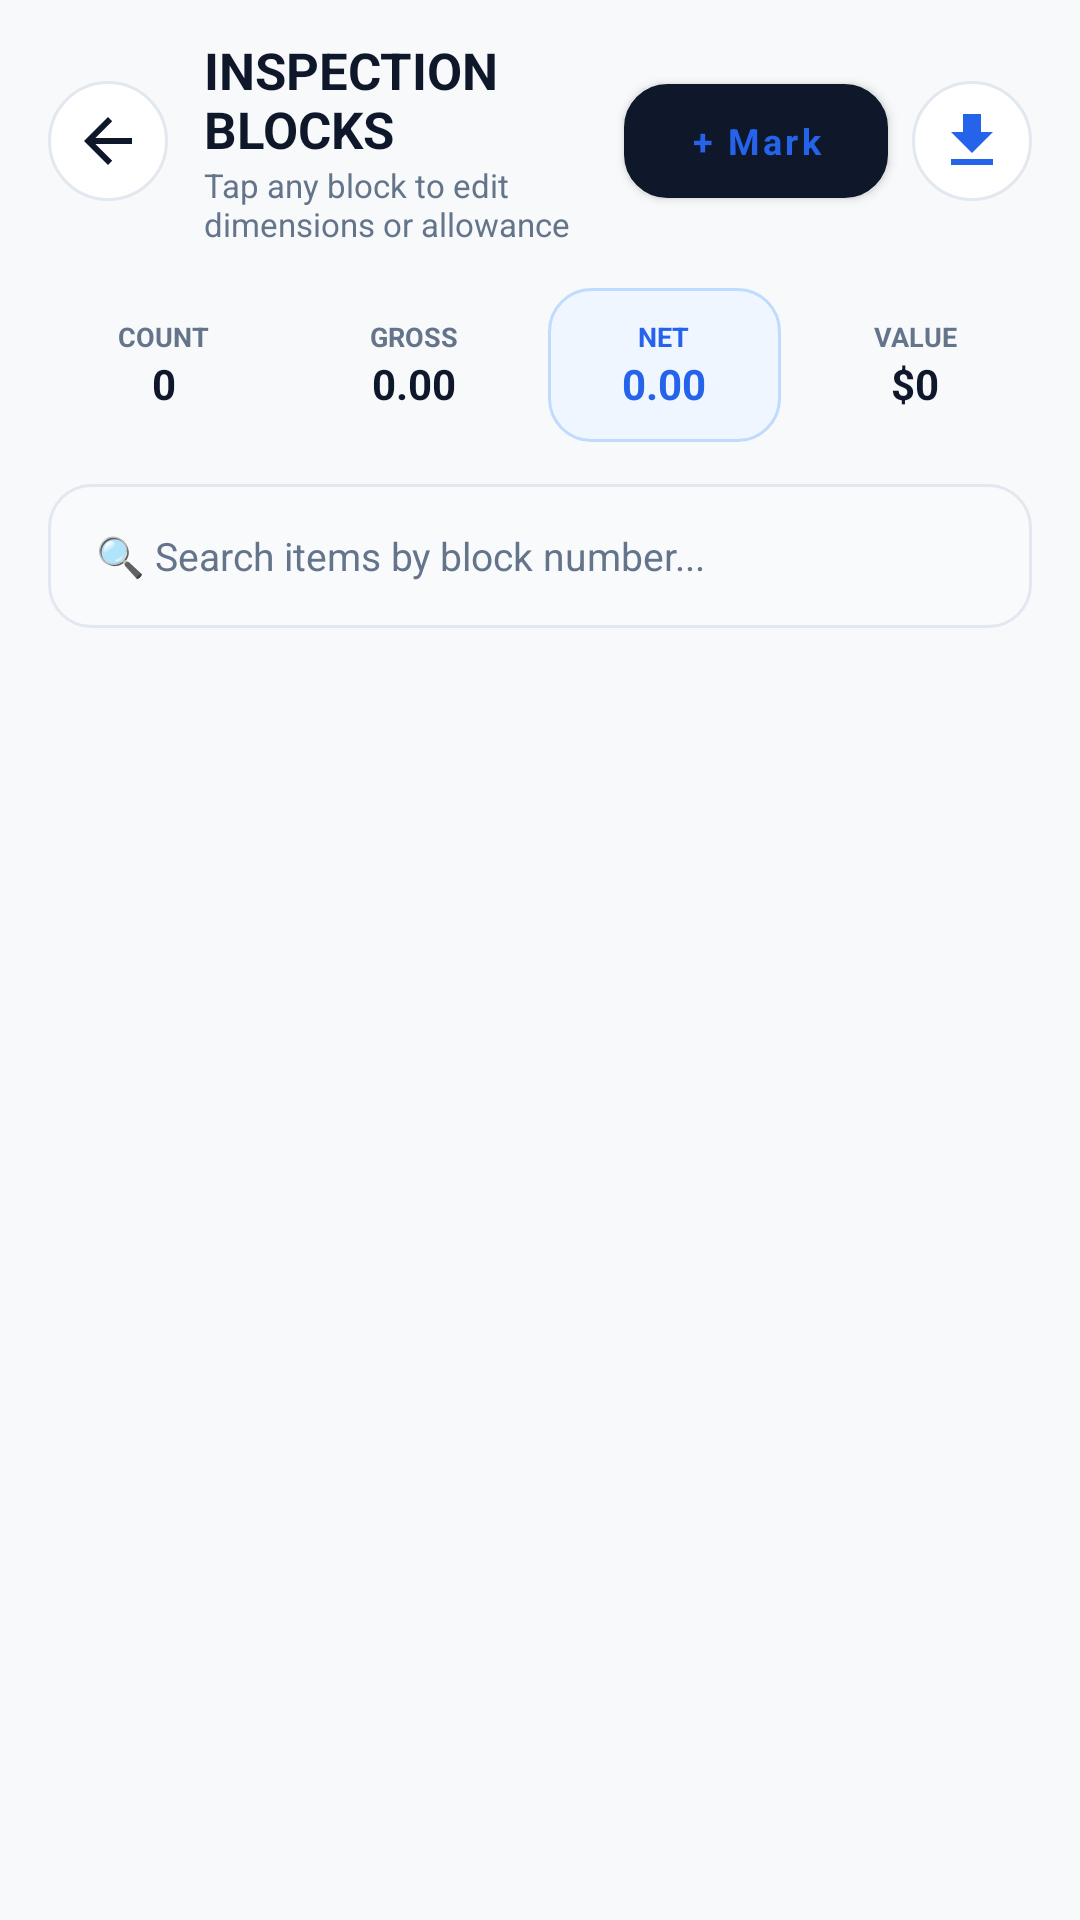

Screen size 1080×1920. Icon name, then its center in pixels as [x,y]:
Back: [108,141]
Export: [972,139]
